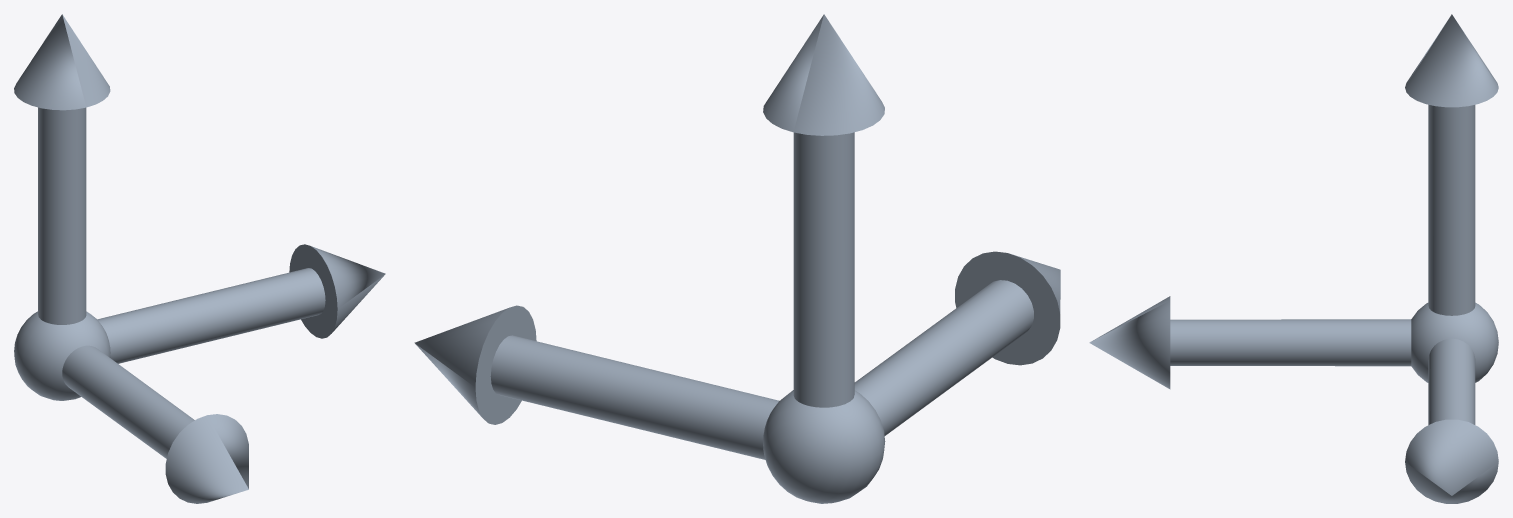
The model's file is axis.obj.
3 views of the same model, side by side, from view 1: azimuth 30°, elevation 25°; view 2: azimuth 150°, elevation 25°; view 3: azimuth 270°, elevation 25° (orthographic). The views are drawn at different scales.
Parts seen in each view (by area): view 1: 1; view 2: 1; view 3: 1.
Part boxes in pixels (x1,y1,x2,y2): 1: (14, 14, 385, 503); 1: (414, 14, 1060, 503); 1: (1089, 14, 1498, 503).
Size of the model in its own units: 43.64 by 43.66 by 43.66.
